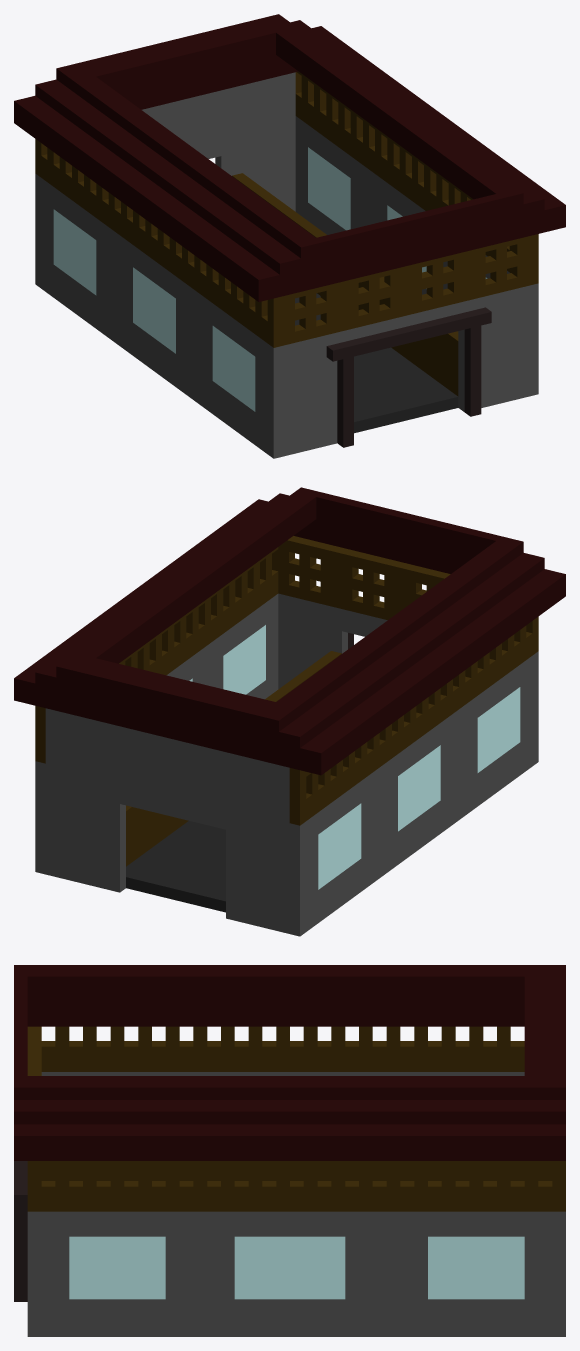
The model's file is Ranch.fbx.
3 views of the same model, one above another, from view 1: azimuth 30°, elevation 25°; view 2: azimuth 150°, elevation 25°; view 3: azimuth 270°, elevation 25° (orthographic). The views are drawn at different scales.
Parts seen in each view (by area): view 1: Untitled; view 2: Untitled; view 3: Untitled.
Part boxes in pixels (box(x1,y1,x2,y2)): Untitled: box(14, 14, 565, 458); Untitled: box(14, 487, 565, 936); Untitled: box(14, 965, 565, 1336).
Size of the model in its own units: 145 by 95 by 200.
Materials: 1 (1 with a texture image).
